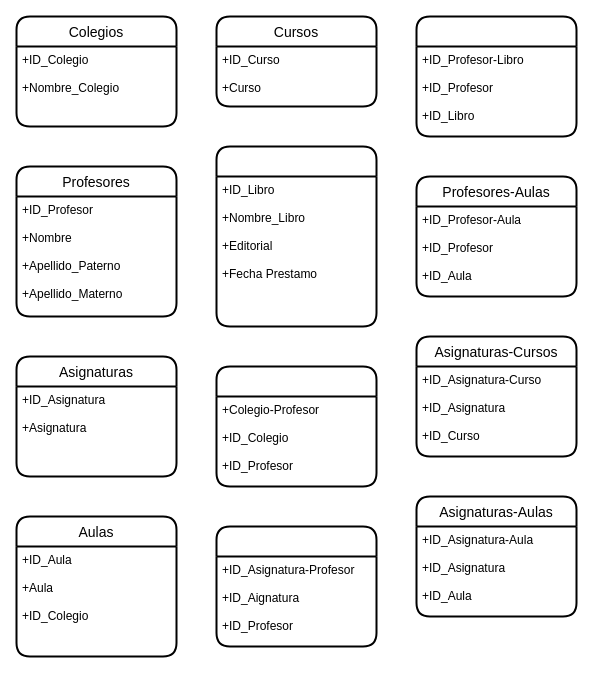
Some shapes in this 593 by 673 pixel diagram are drawn without their labels. The shapes that lost their labels are listed below. From the top down, each one's box as (x1, y1, x2, y2) in pixels, then its label:
(415, 15, 577, 137): Profesores-Libros
(215, 145, 377, 327): Libros
(215, 365, 377, 487): Colegios-Profesores
(215, 525, 377, 647): Asignaturas-Profesores
